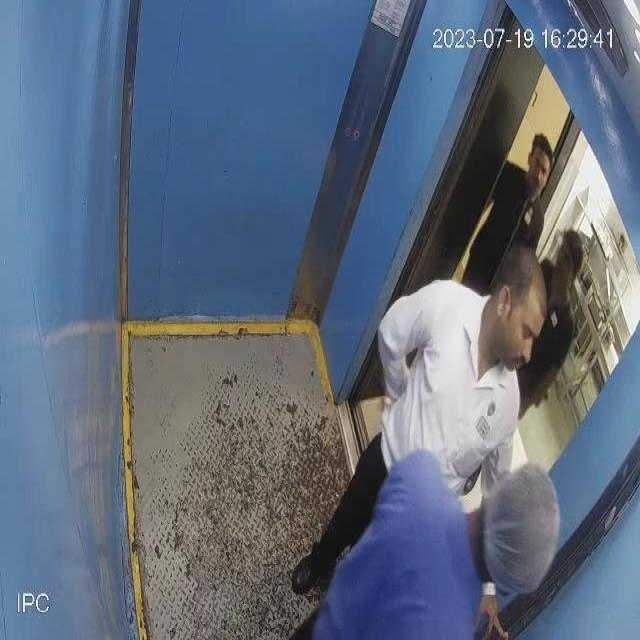person: (289, 245, 564, 603), (286, 449, 576, 640), (471, 129, 563, 280)
